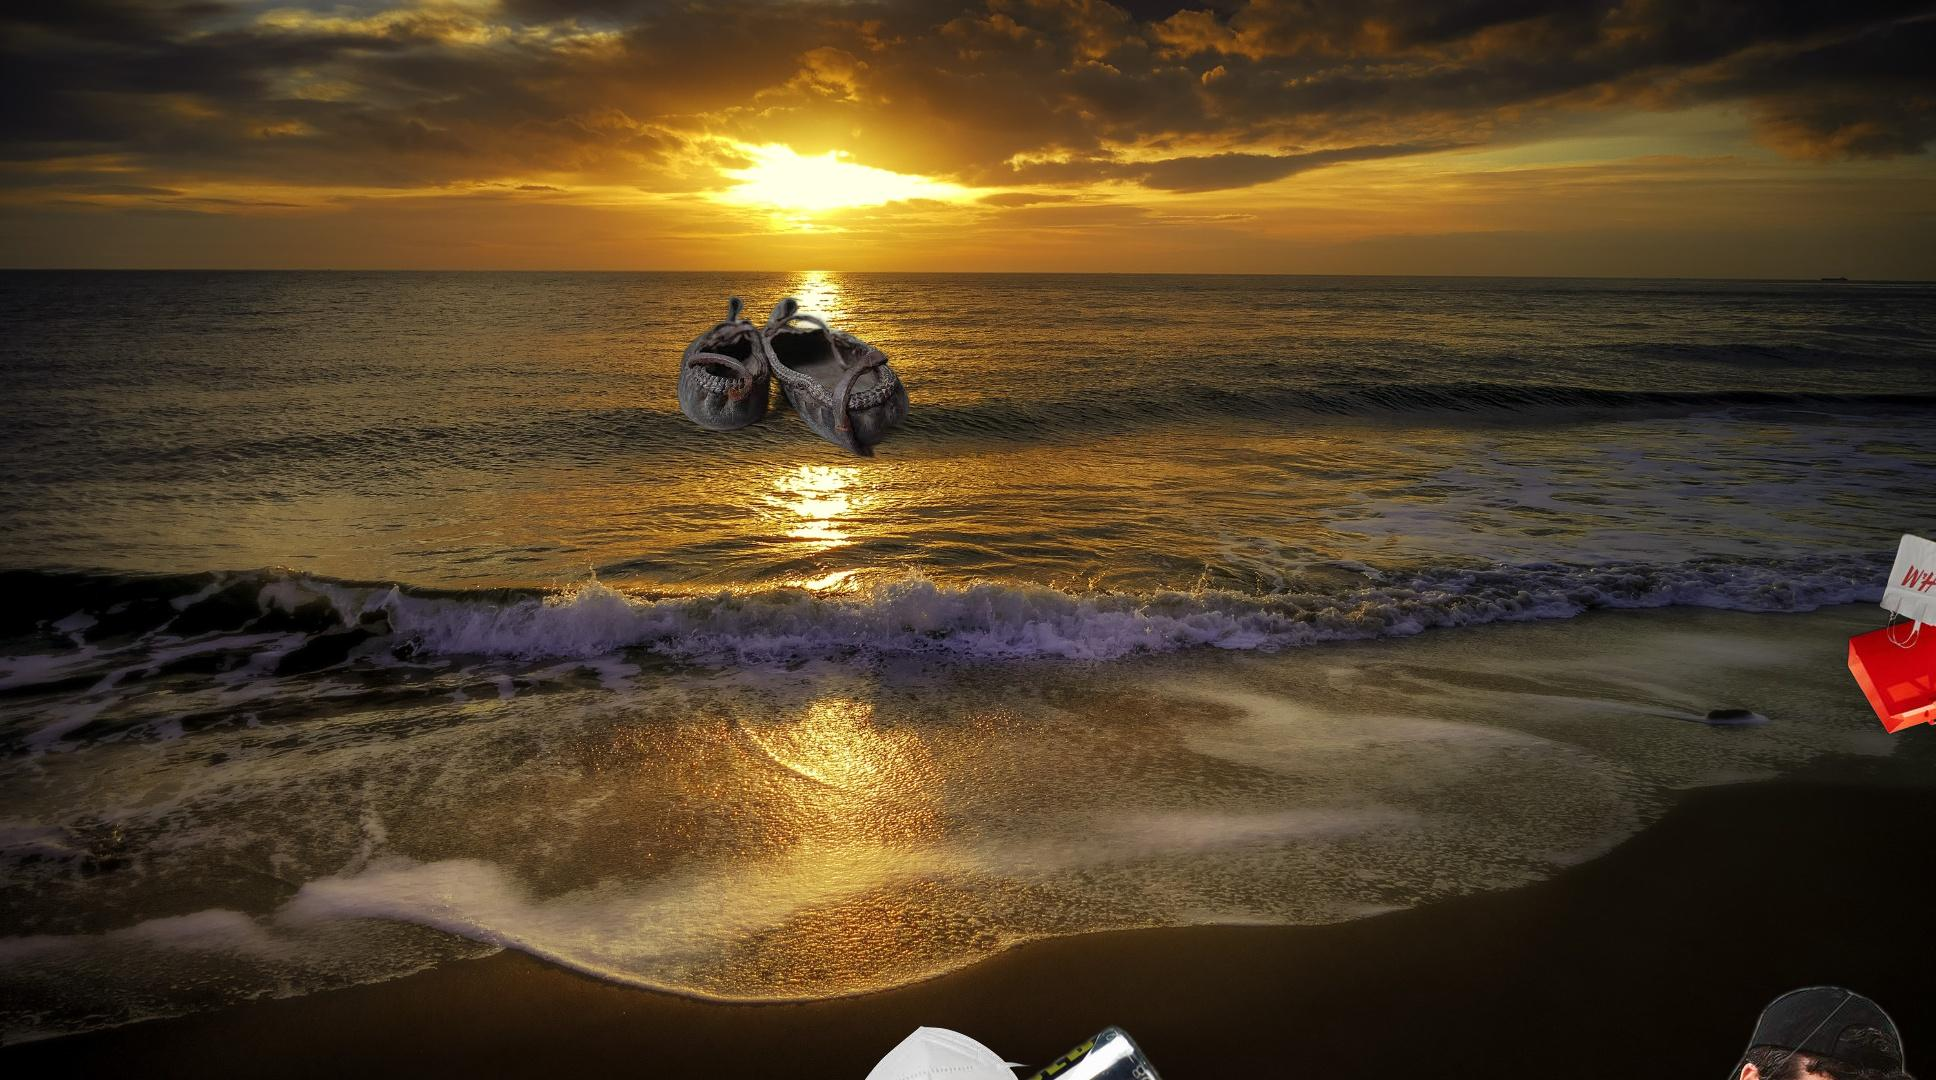battery: (749, 1017, 1404, 1080)
paper-bag: (1844, 528, 1936, 737)
shoes: (674, 289, 921, 466)
trash: (773, 1025, 1080, 1080)
trashbox-cardboard: (1191, 978, 1936, 1080)
